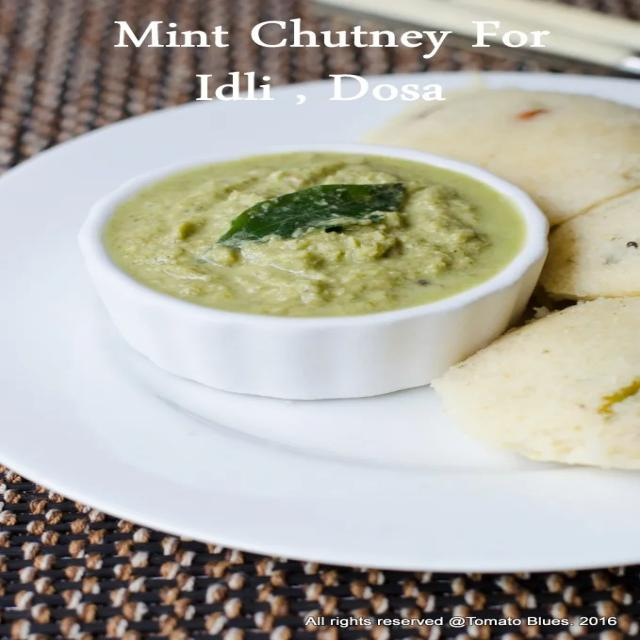puthina chutney: (81, 139, 523, 337)
